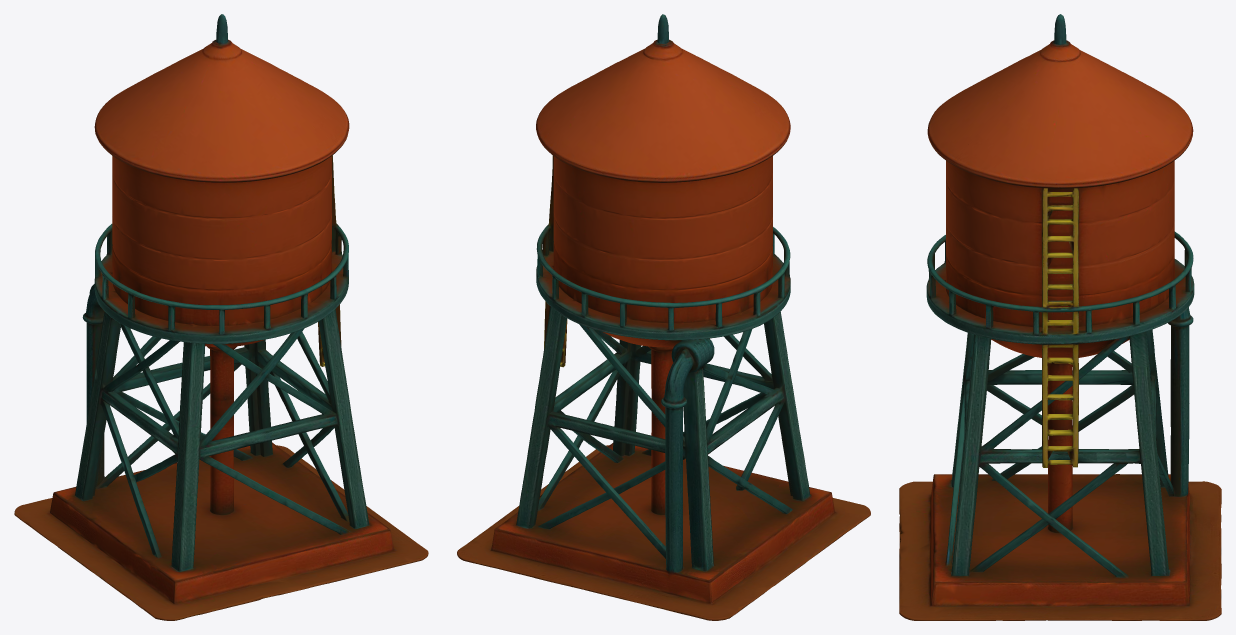
File: watertower3d.glb
3 views of the same model, side by side, from view 1: azimuth 30°, elevation 25°; view 2: azimuth 150°, elevation 25°; view 3: azimuth 270°, elevation 25° (orthographic). The views are drawn at different scales.
Parts seen in each view (by area): view 1: tripo_node_be5bf0e6-119b-41c1-9cb0-a7917d90982a; view 2: tripo_node_be5bf0e6-119b-41c1-9cb0-a7917d90982a; view 3: tripo_node_be5bf0e6-119b-41c1-9cb0-a7917d90982a.
Boxes of the visible parts, left/top/right/bottom form: tripo_node_be5bf0e6-119b-41c1-9cb0-a7917d90982a: left=14, top=14, right=428, bottom=620; tripo_node_be5bf0e6-119b-41c1-9cb0-a7917d90982a: left=457, top=14, right=870, bottom=620; tripo_node_be5bf0e6-119b-41c1-9cb0-a7917d90982a: left=899, top=14, right=1221, bottom=620.
Bounding box in the file's own units: 0.5492 × 1 × 0.5427.
Materials: 1 (1 with a texture image).
